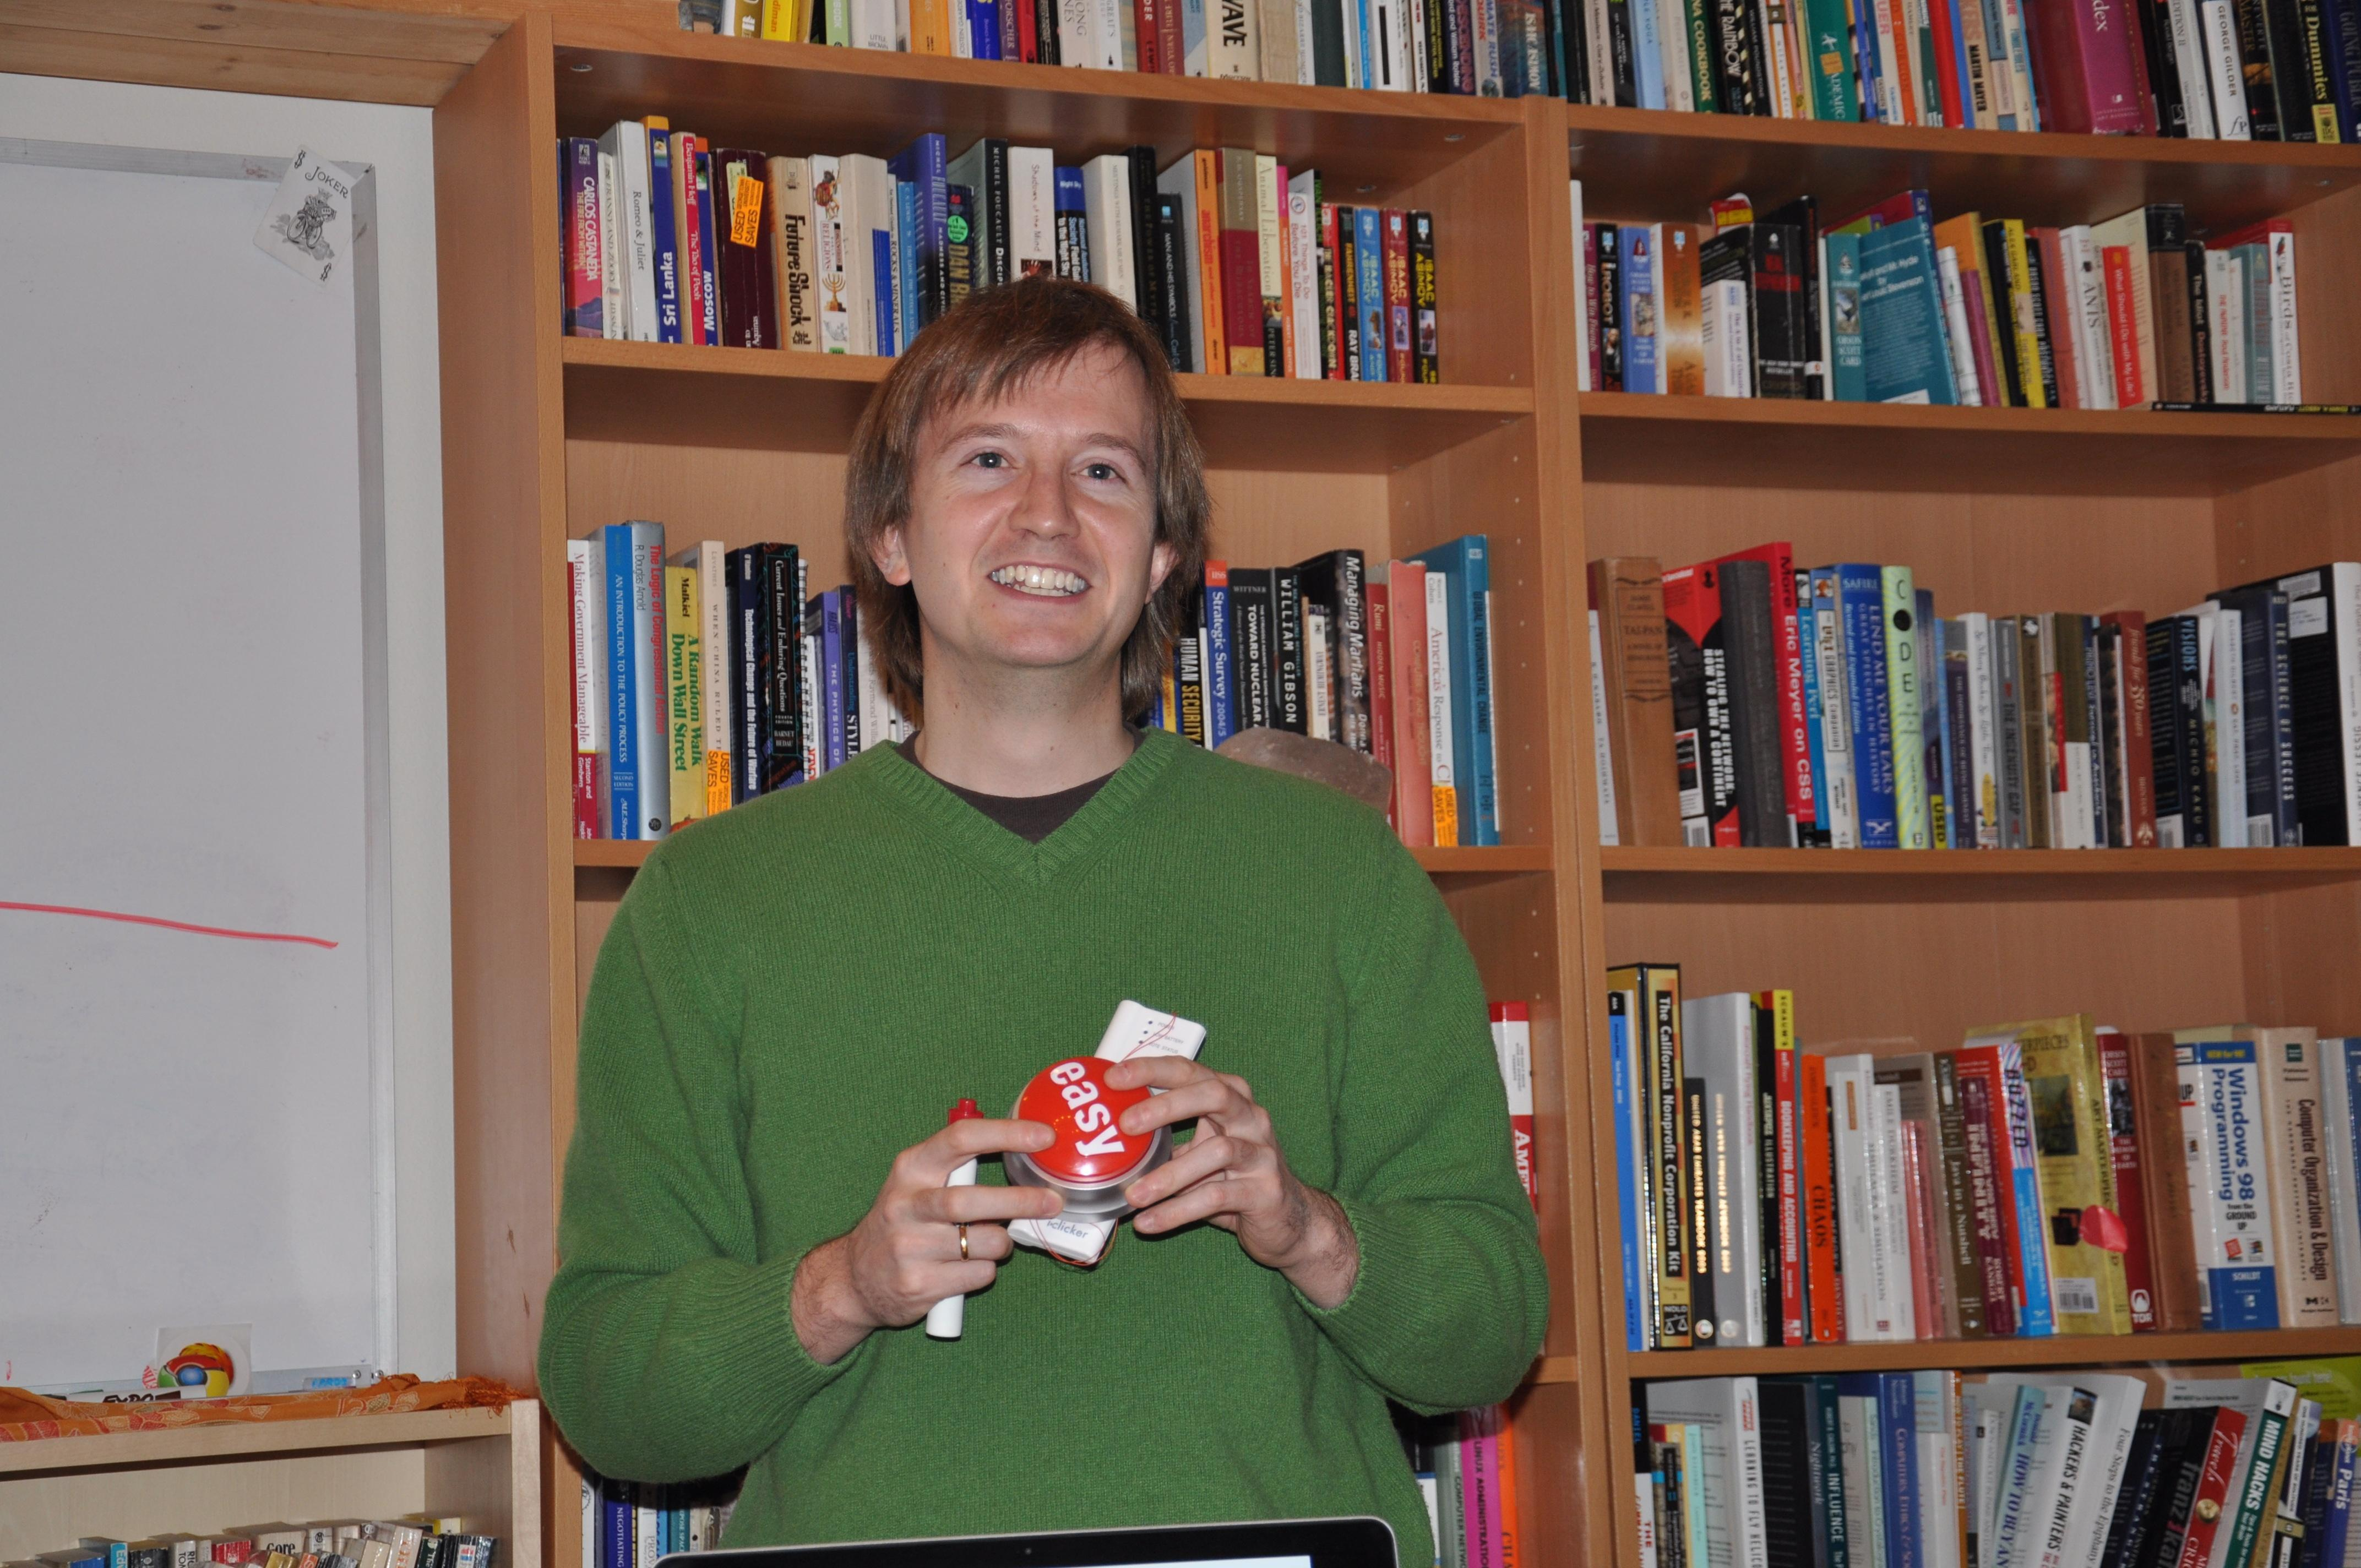Rak: (536, 26, 1598, 1568), (1540, 101, 2361, 1568)
